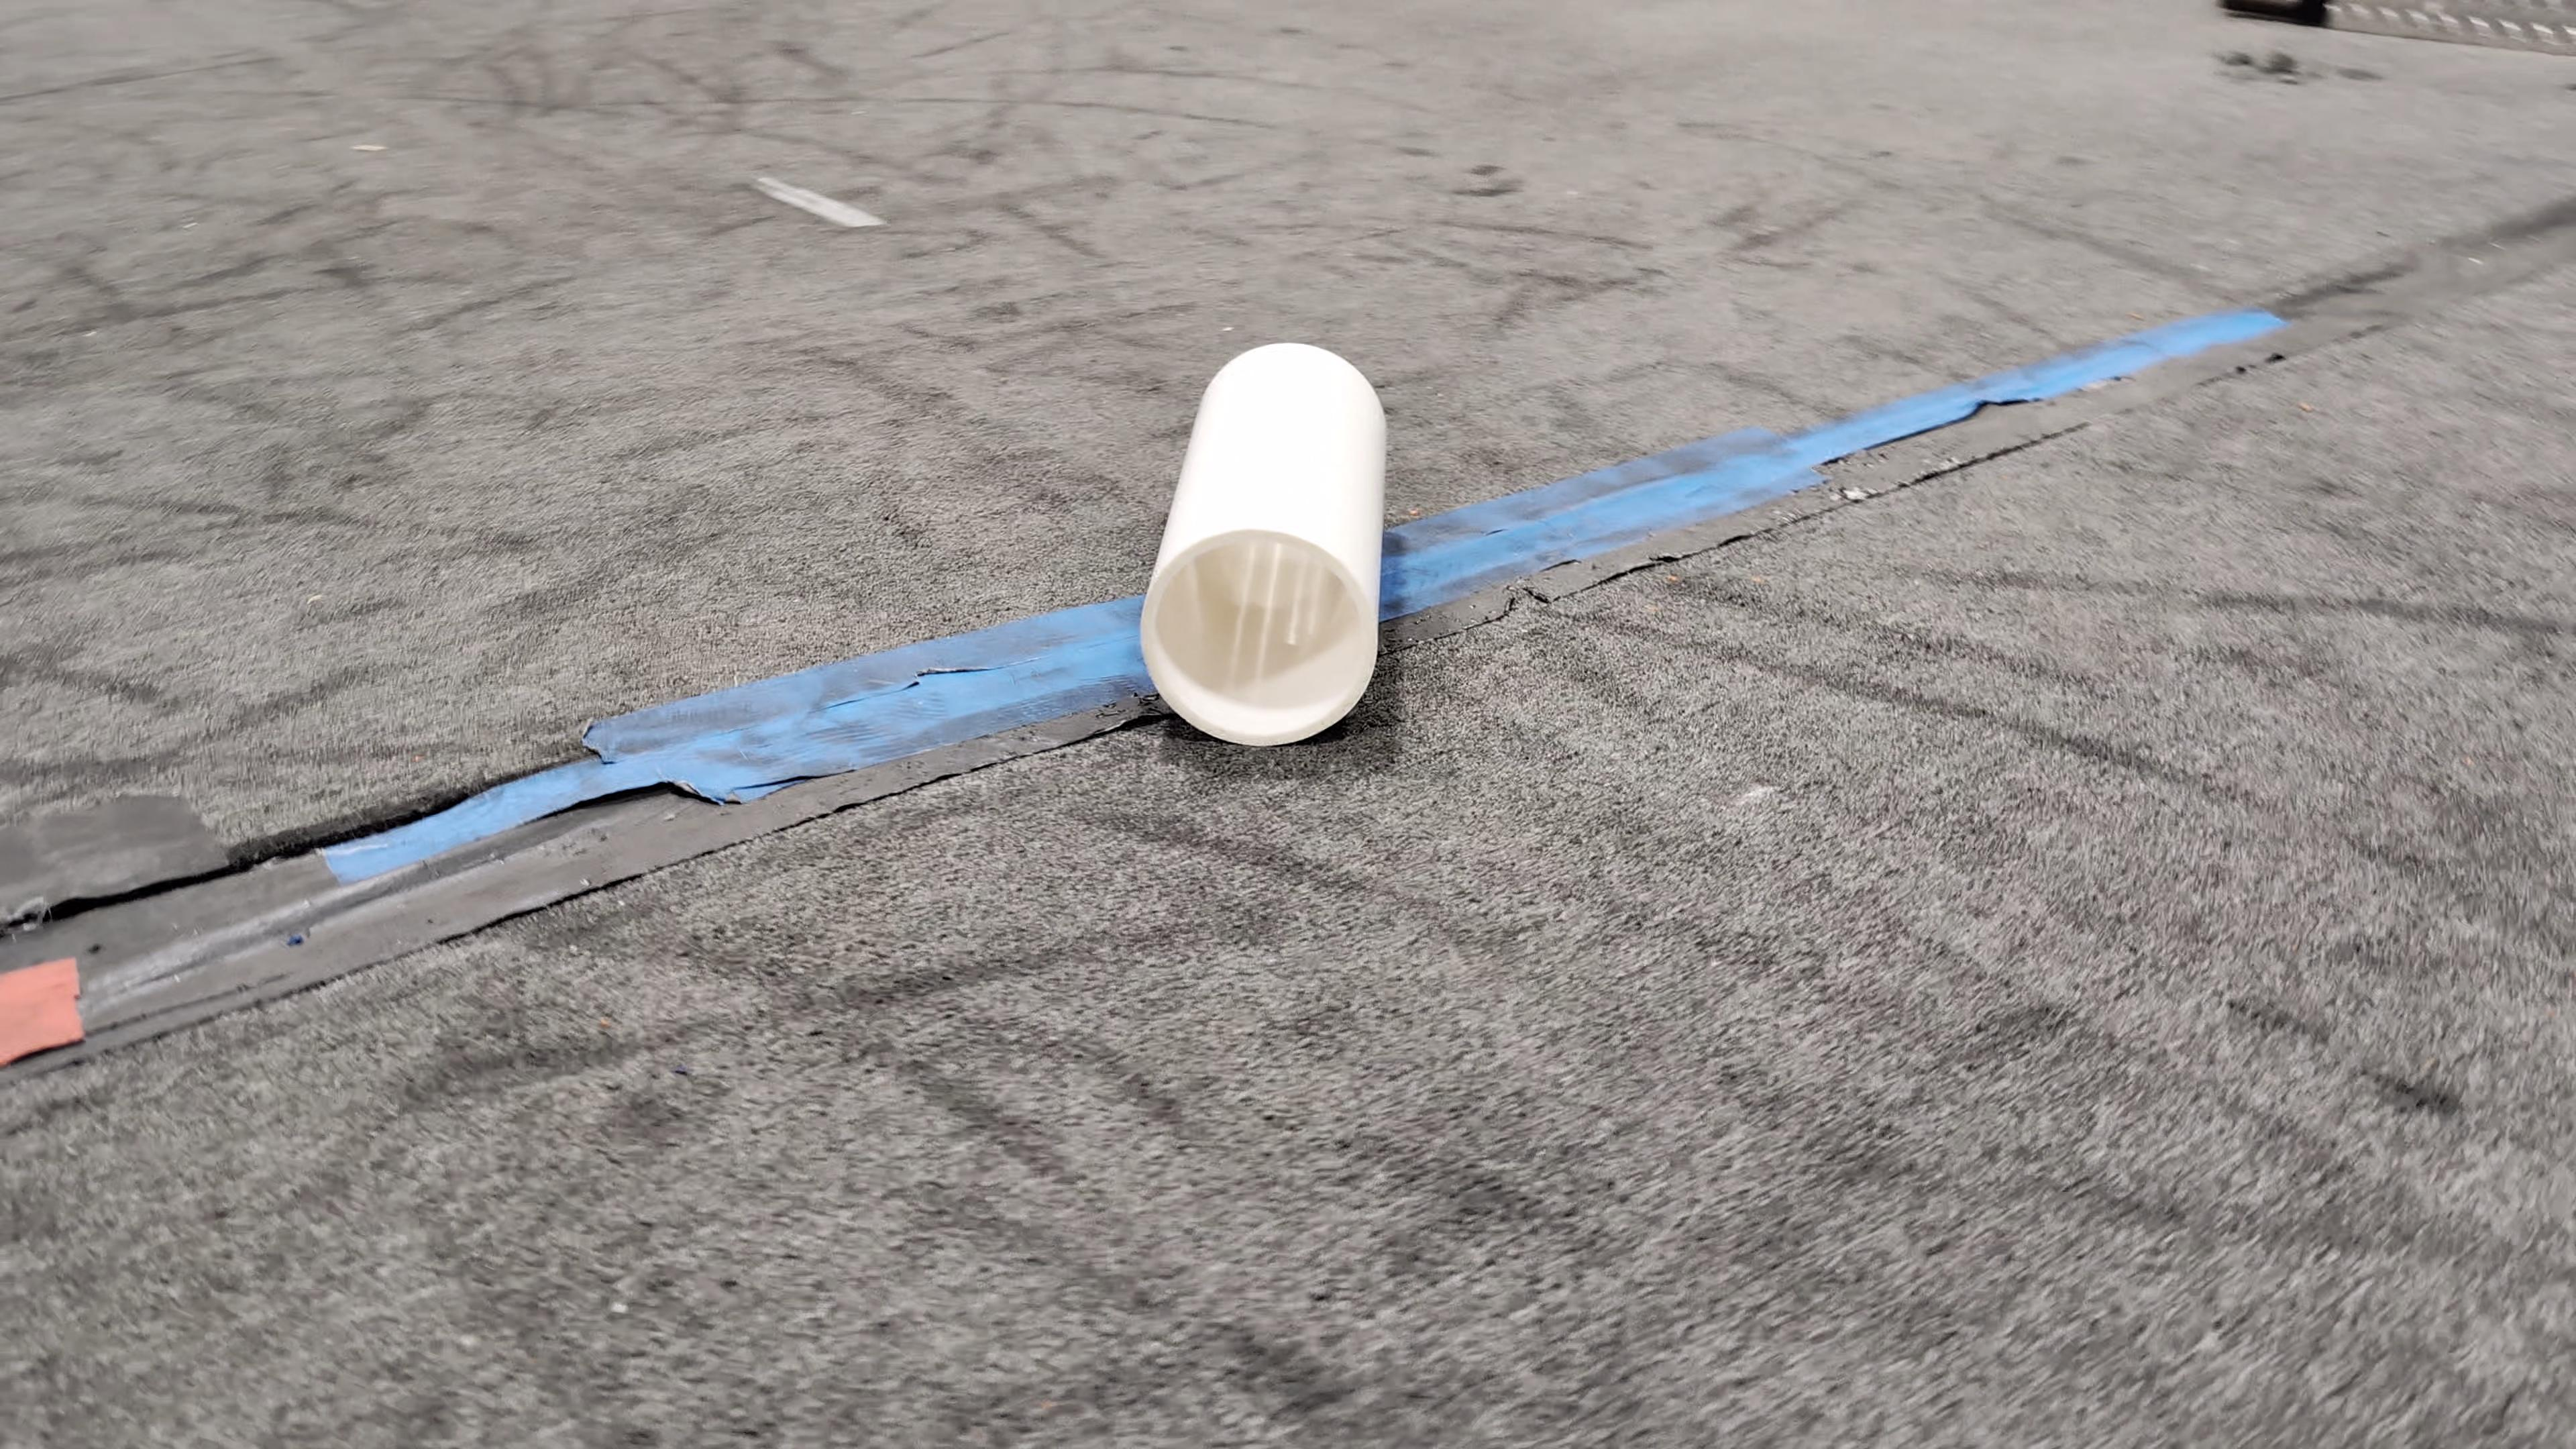coral: (1136, 338, 1392, 747)
